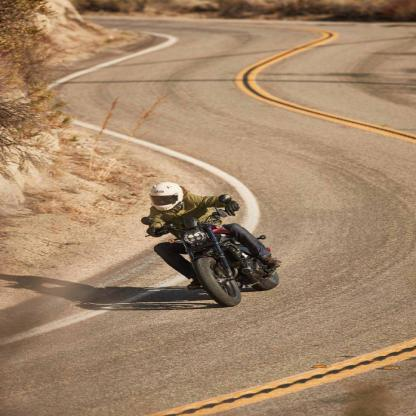helmet: (149, 181, 184, 212)
